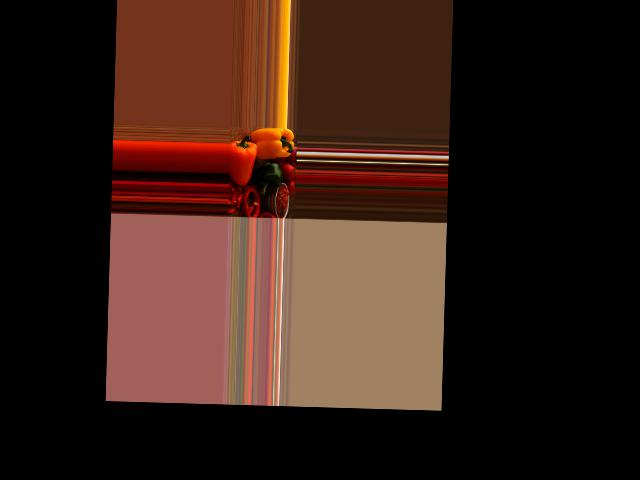bell_pepper: (257, 127, 294, 160)
